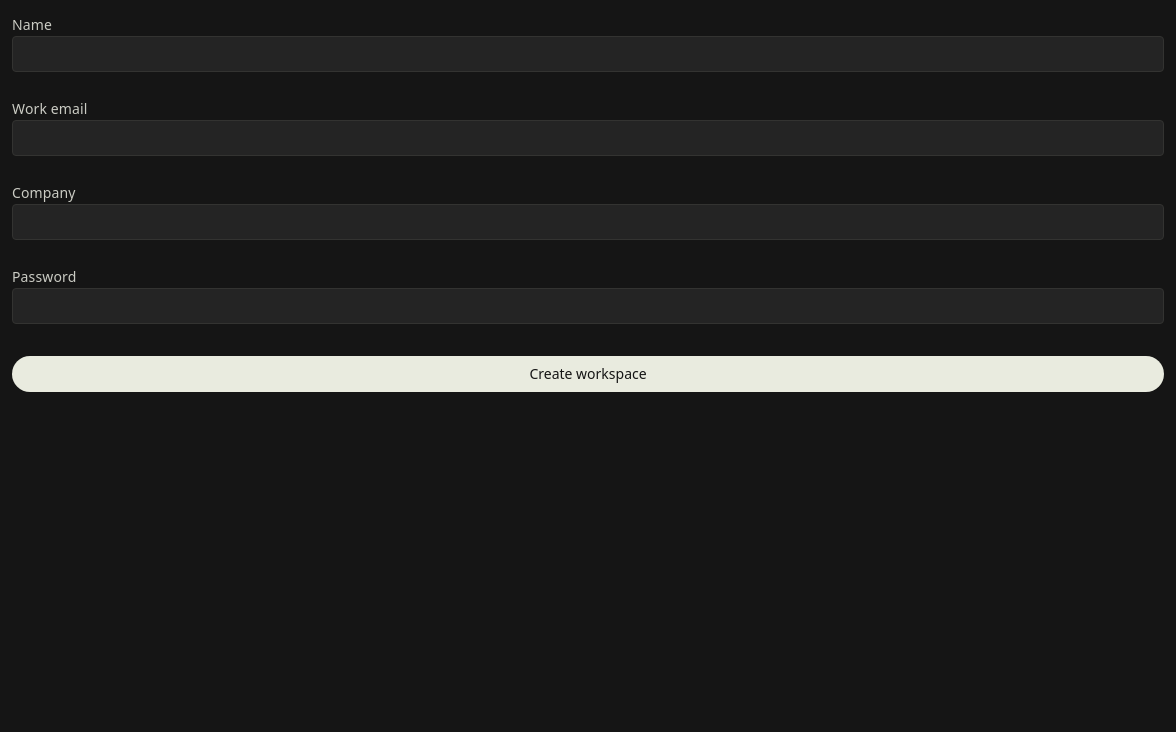
Scenario: SignupForm › shows a role=alert banner for a generic error
Type "Ada Speke" into the field labelled "Name". click: {"x": 588, "y": 54}
box: top-left (12, 36), bottom-right (1164, 72)
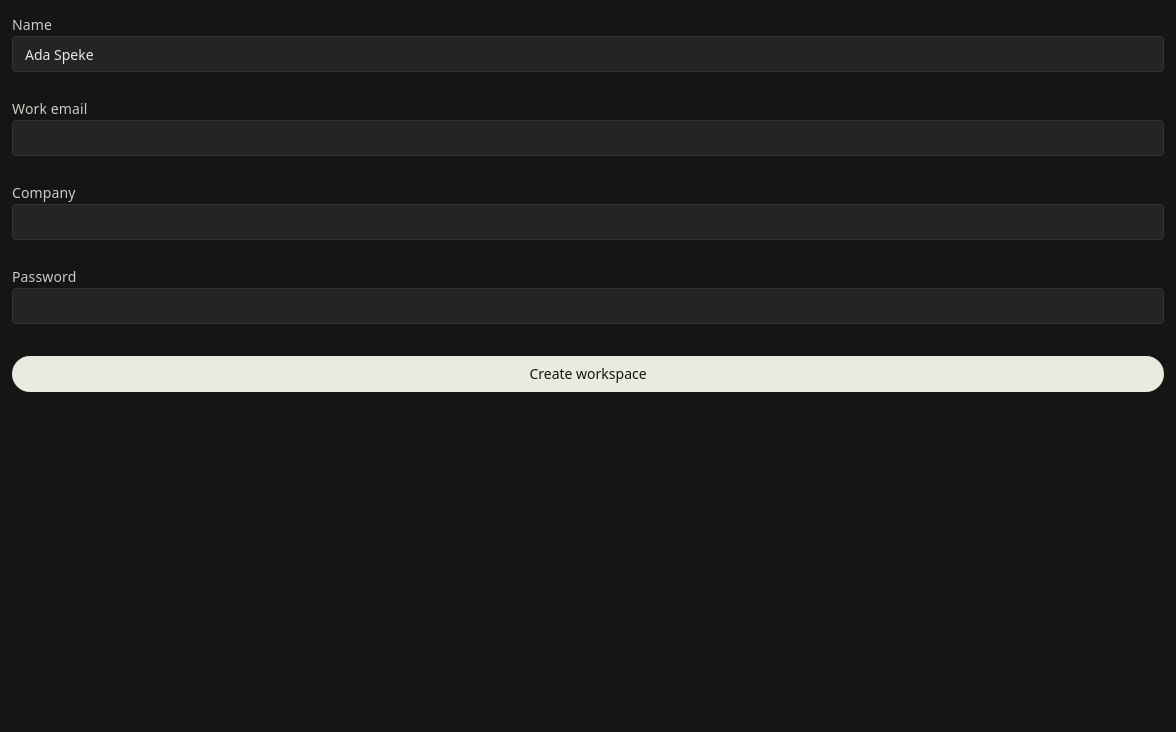
Type "ada@wexley.example" into the field labelled "Work email". click: {"x": 588, "y": 138}
box: top-left (12, 120), bottom-right (1164, 156)
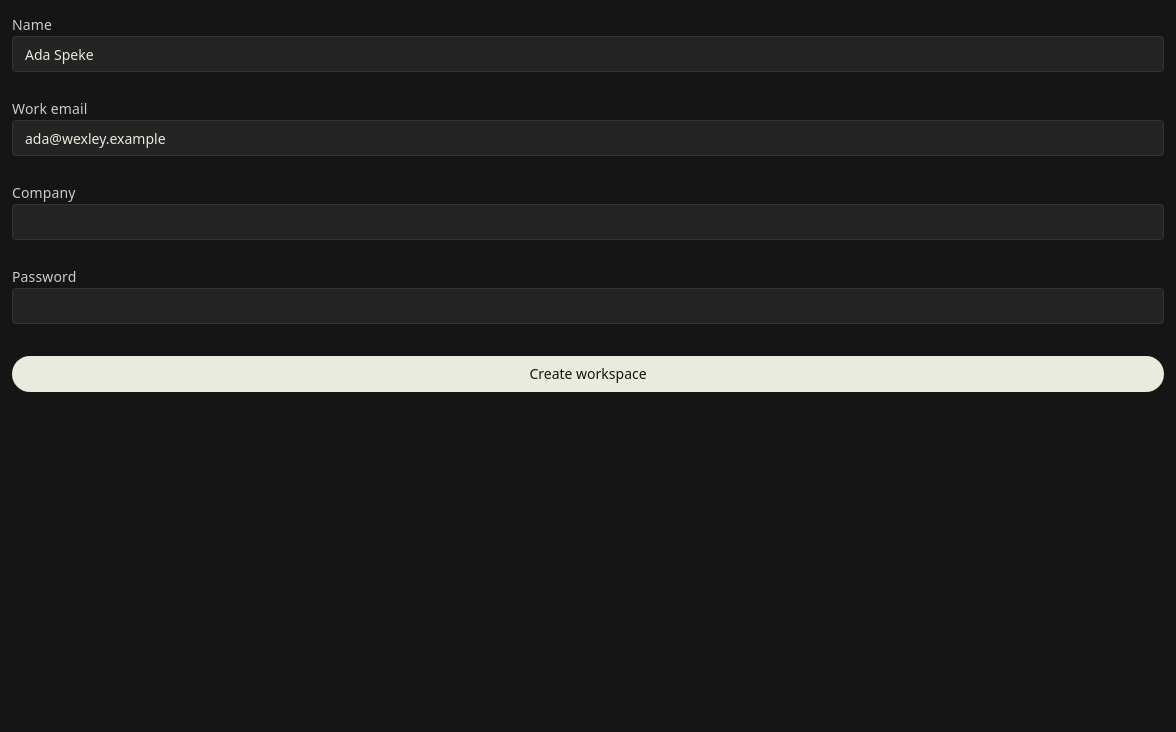
Type "Wexley" into the field labelled "Company". click: {"x": 588, "y": 222}
box: top-left (12, 204), bottom-right (1164, 240)
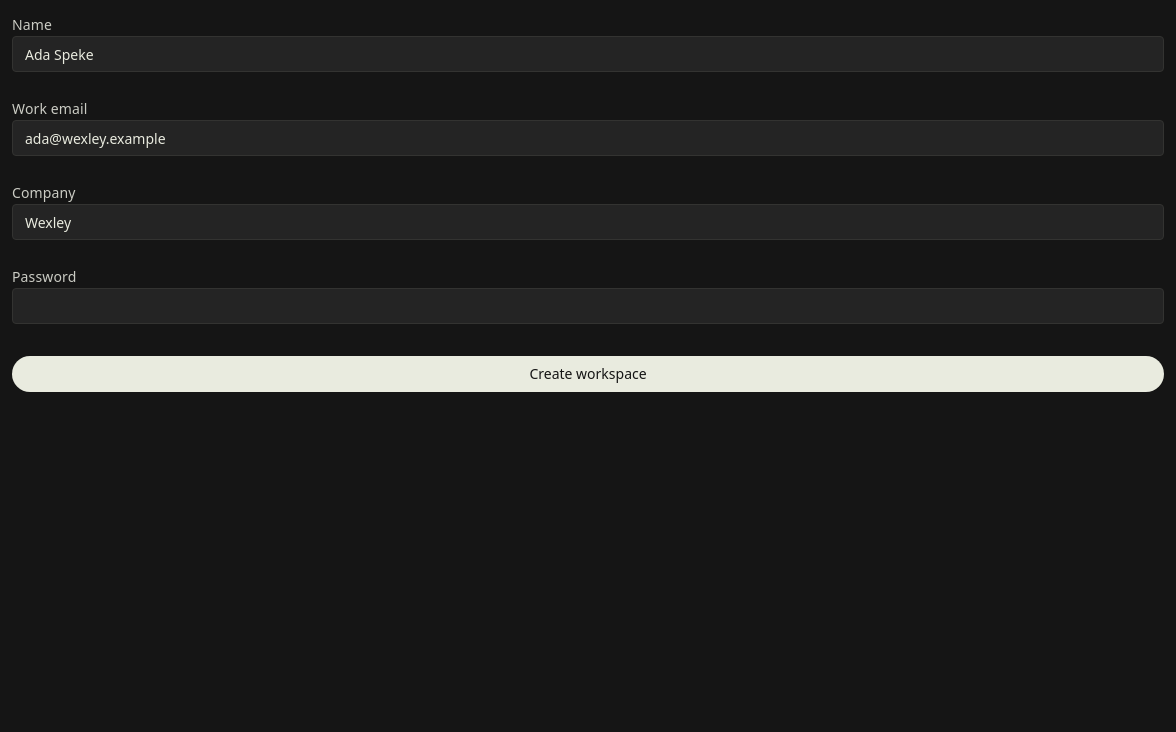
Type "correct-horse-1!" into the password field labelled "Password". click: {"x": 588, "y": 306}
box: top-left (12, 288), bottom-right (1164, 324)
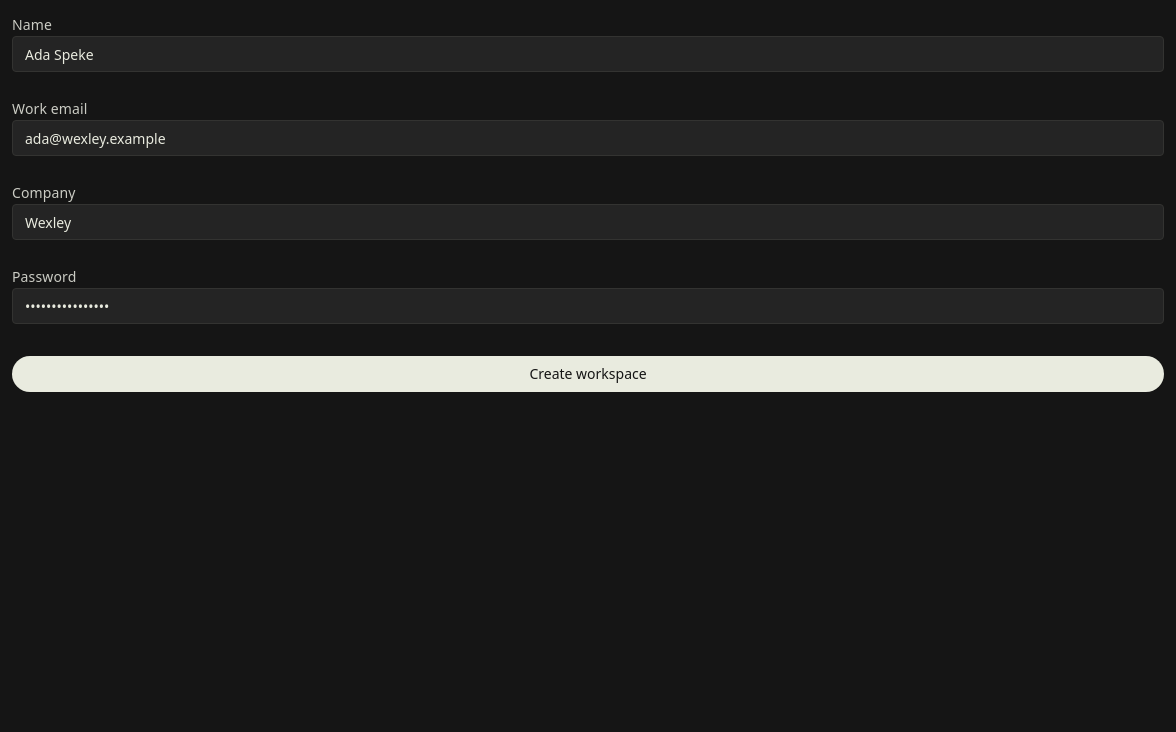
Click the button "Create workspace". click: {"x": 588, "y": 374}
box: top-left (12, 356), bottom-right (1164, 392)
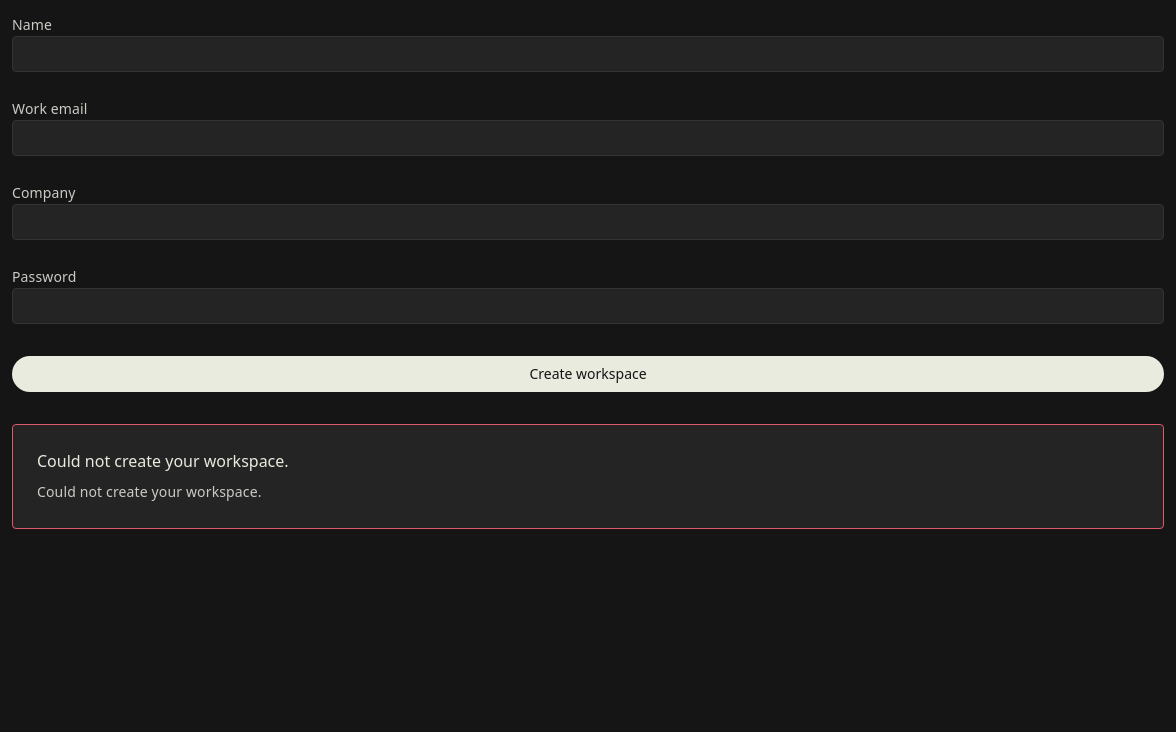
Expected: the message shows "Could not create your workspace.", top-left (37, 450), bottom-right (289, 472)
